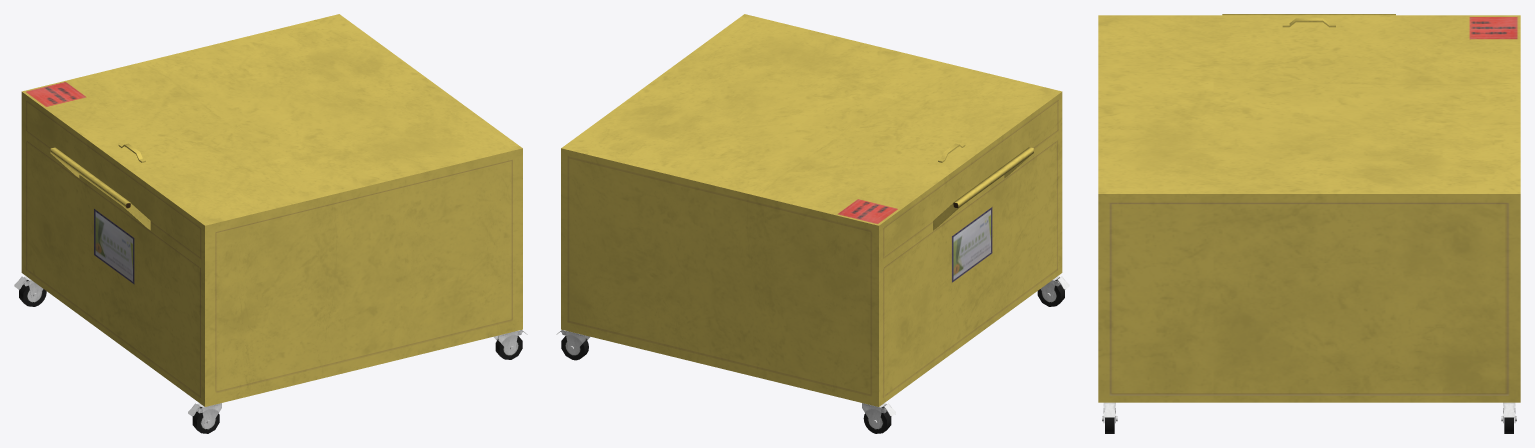
The model's file is GuJia.FBX.
3 views of the same model, side by side, from view 1: azimuth 30°, elevation 25°; view 2: azimuth 150°, elevation 25°; view 3: azimuth 270°, elevation 25° (orthographic). The views are drawn at different scales.
Visible parts, largest first — view 1: YF_Model_gujia; view 2: YF_Model_gujia; view 3: YF_Model_gujia.
Part boxes in pixels (<box>): YF_Model_gujia: <box>14,14,527,433</box>; YF_Model_gujia: <box>556,14,1069,433</box>; YF_Model_gujia: <box>1098,14,1520,433</box>.
Size of the model in its own units: 110 by 65.4 by 100.
1 material, 1 textured.
